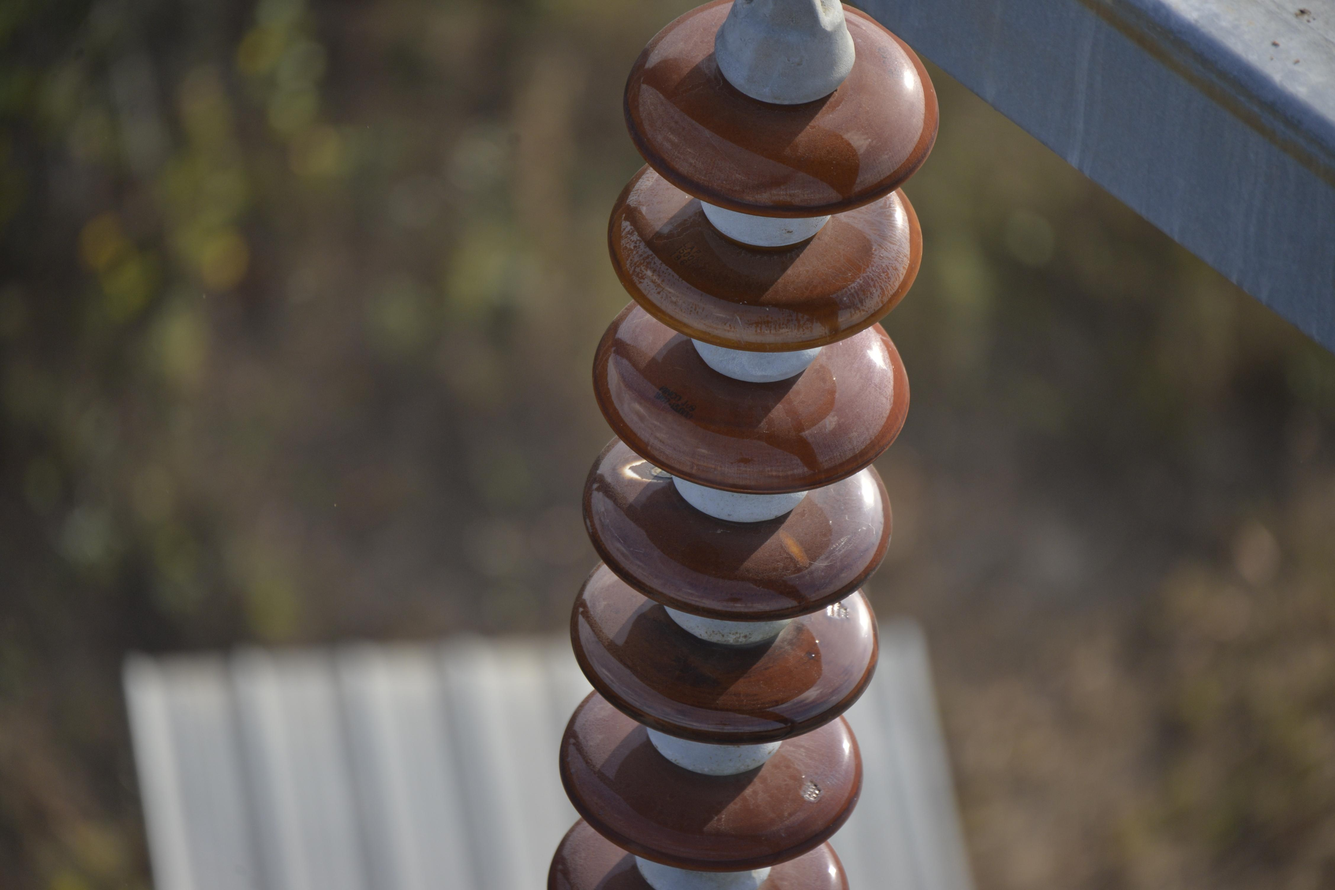Flashover: (617, 447, 693, 496)
insulator: (548, 11, 937, 890)
